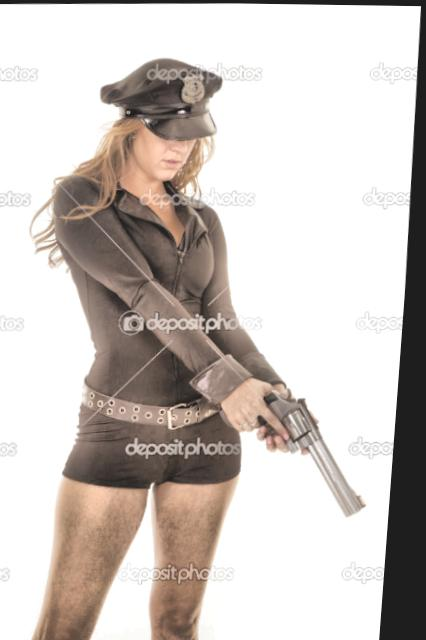pistol: (215, 381, 385, 519)
